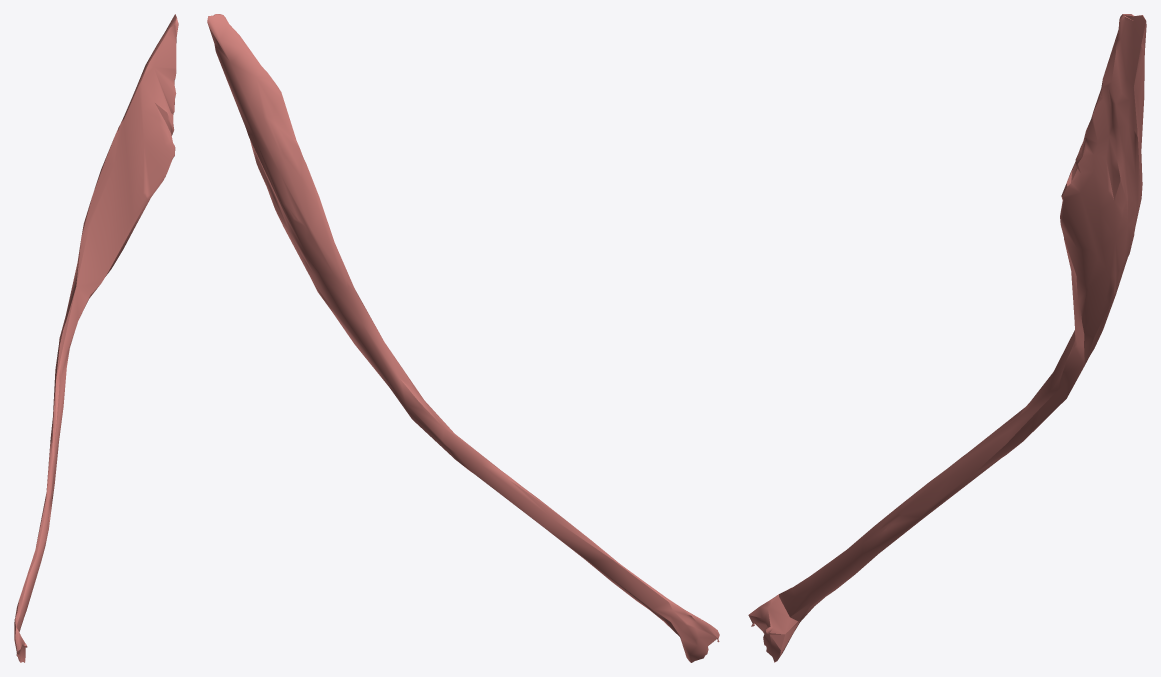
File: fma38519_fj1494.glb
The picture shows the model from 3 angles, left to right: view 1: azimuth 30°, elevation 25°; view 2: azimuth 150°, elevation 25°; view 3: azimuth 270°, elevation 25°; orthographic projection. The views are drawn at different scales.
Visible parts, largest first — view 1: FMA38519_FJ1494; view 2: FMA38519_FJ1494; view 3: FMA38519_FJ1494.
Boxes of the visible parts, bbox=[...] form: FMA38519_FJ1494: bbox=[14, 14, 178, 662]; FMA38519_FJ1494: bbox=[207, 14, 719, 662]; FMA38519_FJ1494: bbox=[748, 14, 1146, 662].
Bounding box in the file's own units: 0.0765 × 0.1356 × 0.0567.
